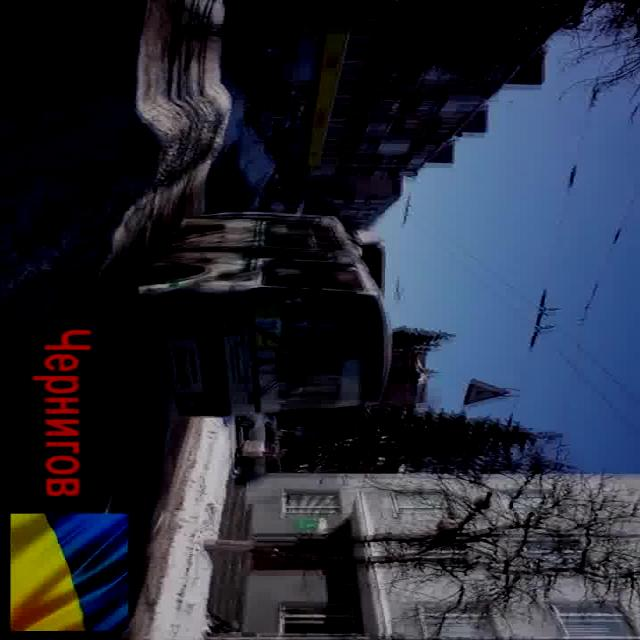bus: (112, 211, 390, 423)
